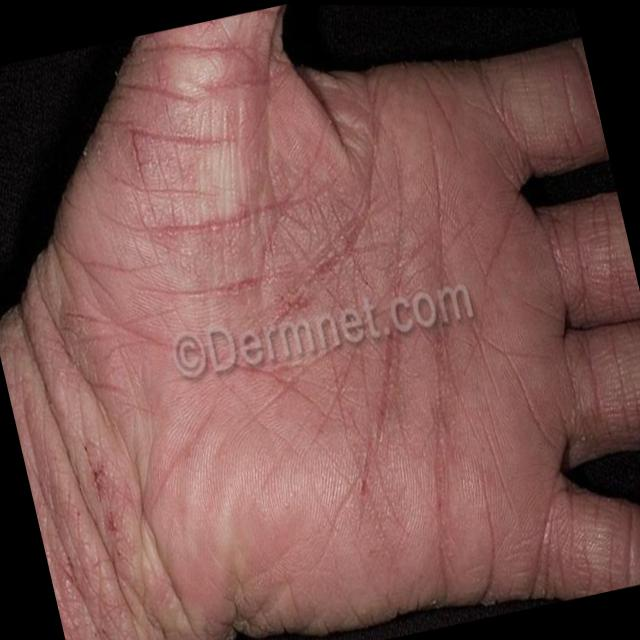liquenificacion 1: (0, 4, 640, 640)
liquenificacion 2: (0, 4, 640, 640)
liquenificacion 3: (0, 4, 566, 640)
